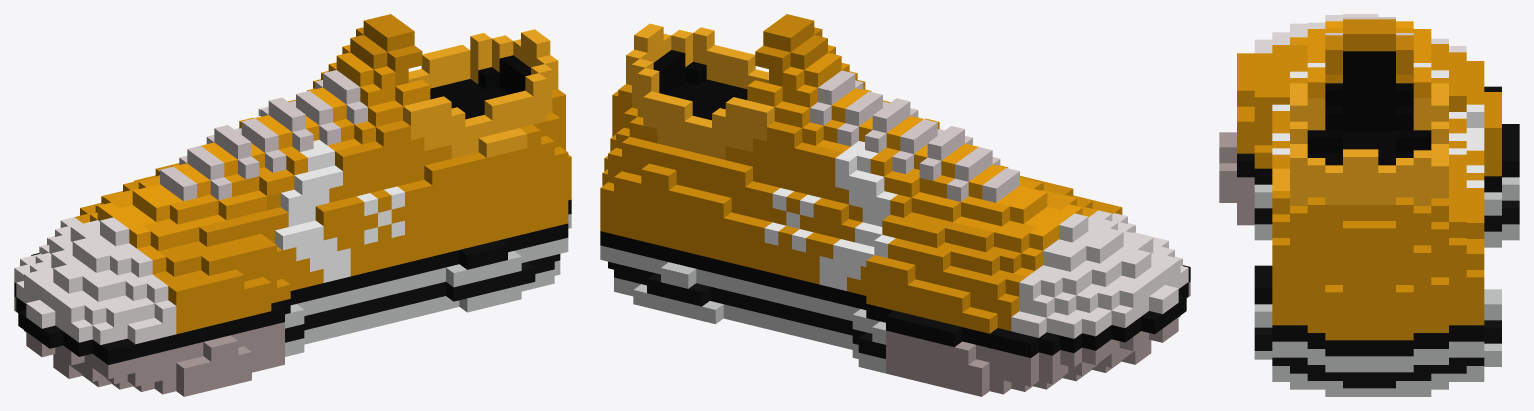
The model's file is Mustard.fbx.
3 views of the same model, side by side, from view 1: azimuth 30°, elevation 25°; view 2: azimuth 150°, elevation 25°; view 3: azimuth 270°, elevation 25° (orthographic). The views are drawn at different scales.
Parts seen in each view (by area): view 1: Untitled; view 2: Untitled; view 3: Untitled.
Boxes of the visible parts, <box> form: Untitled: <box>14,14,571,396</box>; Untitled: <box>600,14,1190,396</box>; Untitled: <box>1219,14,1519,396</box>.
Size of the model in its own units: 390 by 180 by 170.
